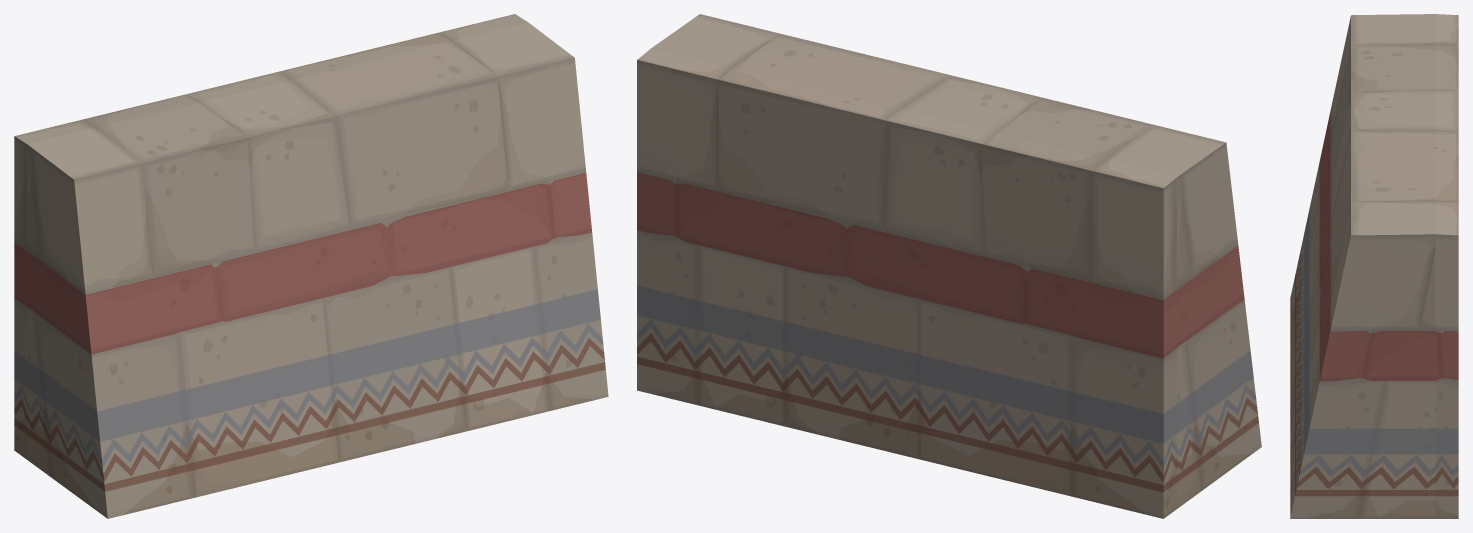
Rendered from SM_Bld_Wall_Temple_Top_Half_02.fbx.
The picture shows the model from 3 angles, left to right: view 1: azimuth 30°, elevation 25°; view 2: azimuth 150°, elevation 25°; view 3: azimuth 270°, elevation 25°; orthographic projection. The views are drawn at different scales.
Parts seen in each view (by area): view 1: SM_Bld_Wall_Temple_Top_Half_02; view 2: SM_Bld_Wall_Temple_Top_Half_02; view 3: SM_Bld_Wall_Temple_Top_Half_02.
Part boxes in pixels (box(x1,y1,x2,y2)): SM_Bld_Wall_Temple_Top_Half_02: box(14, 14, 608, 518); SM_Bld_Wall_Temple_Top_Half_02: box(637, 14, 1261, 518); SM_Bld_Wall_Temple_Top_Half_02: box(1290, 14, 1458, 518).
Bounding box in the file's own units: 500 × 301 × 162.
